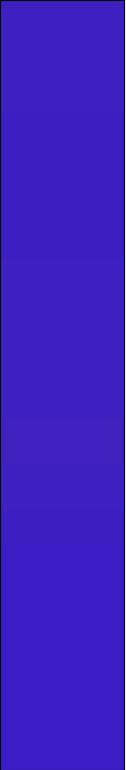safe: (13, 13, 118, 760)
